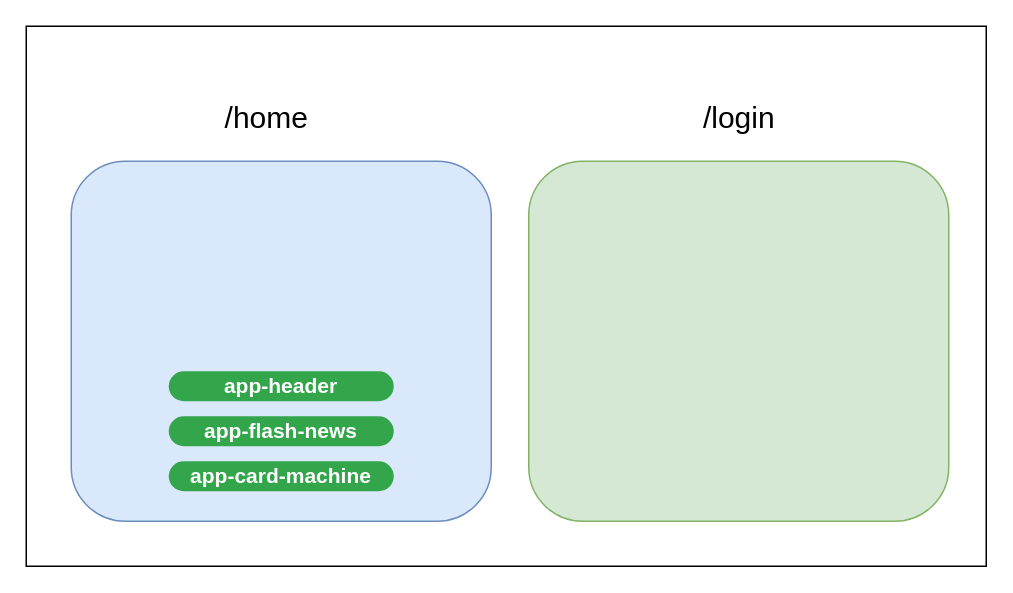
This 1013x593 diagram has some shape labels left out. Each missing label, with the box of its shape:
app-home: (70, 160, 491, 521)
app-login: (527, 160, 949, 521)
